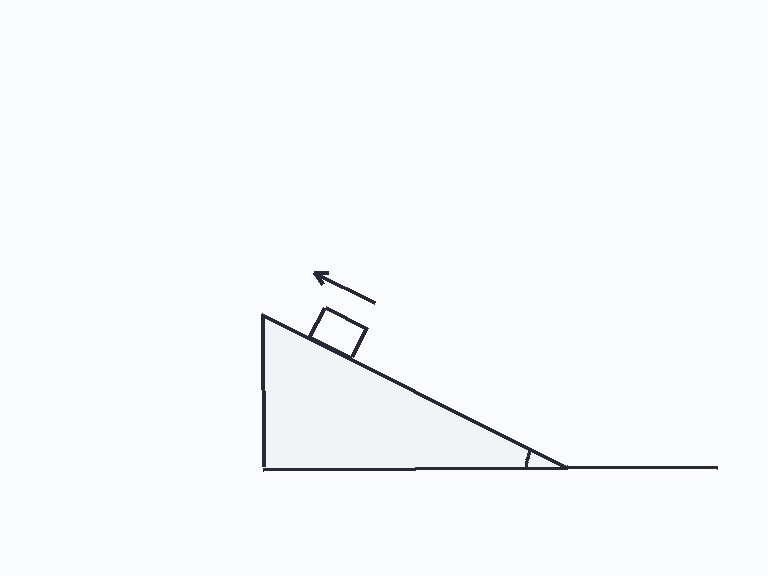block: (307, 305, 368, 360)
ramp: (261, 312, 568, 470)
